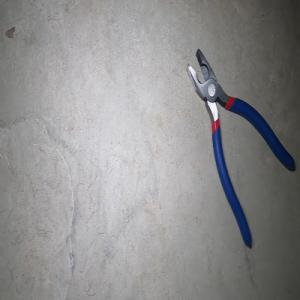Pliers: (186, 48, 296, 249)
